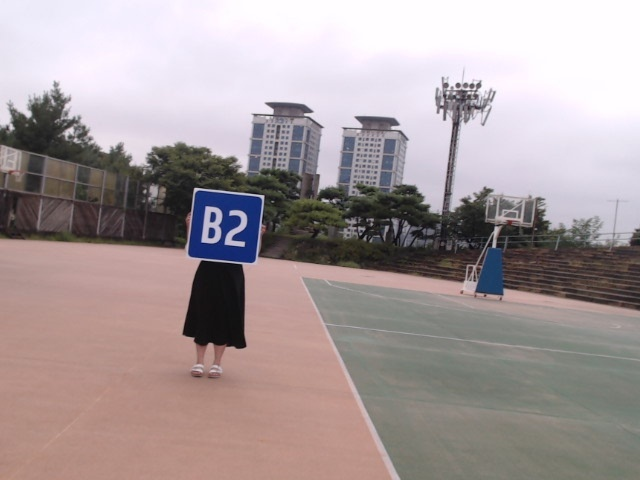delivery_b2: (185, 191, 264, 264)
